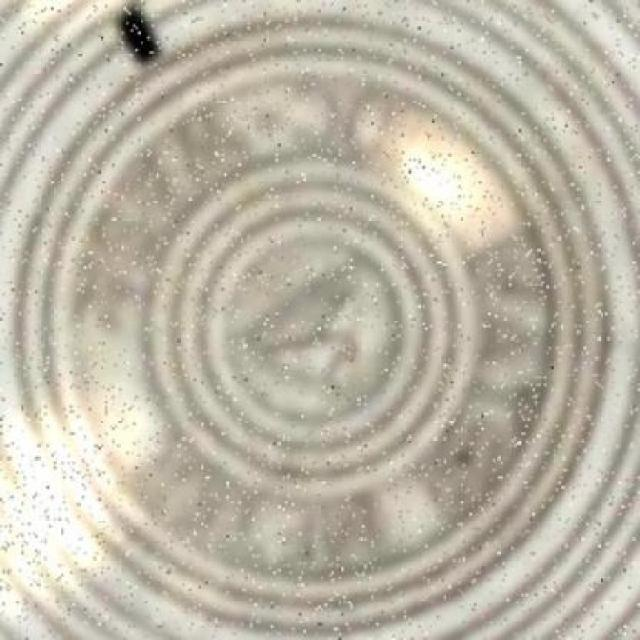Manhole: (4, 3, 638, 640)
